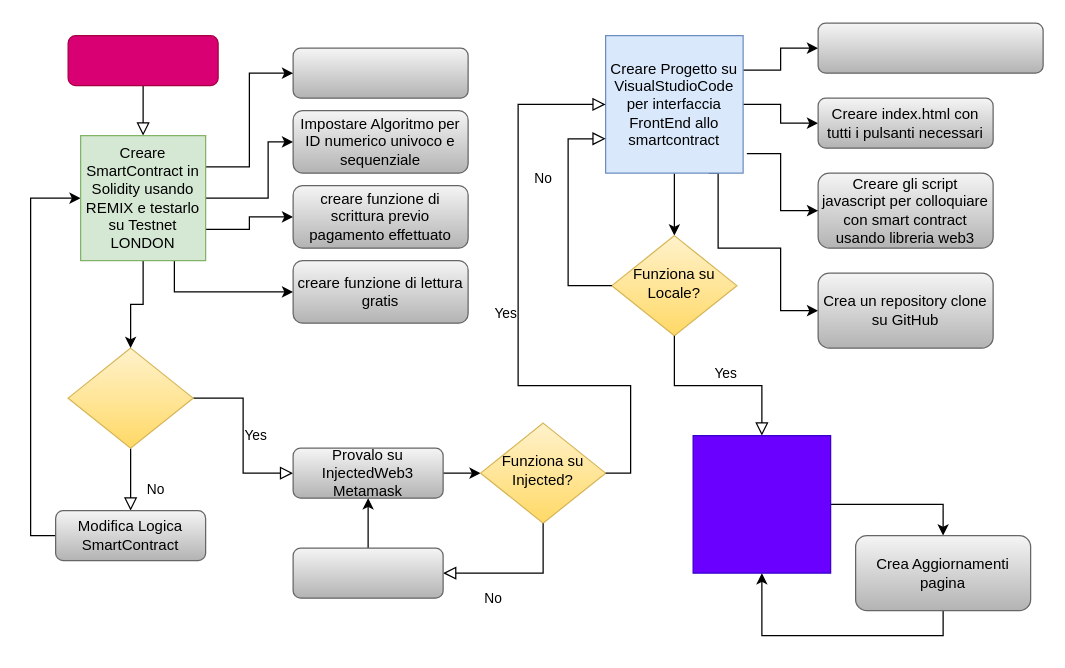
Some shapes in this 1065 by 668 pixel diagram are drawn without their labels. Here are the shapes that lost their labels. From the top down, the centre of each, then its label:
At [142,60]: "AutentikaScripta".
At [930,47]: "Creare server.js Express per test locale webapp http://127.0.0.1:5000/".
At [380,72]: "Impostare pagamento fee a address specifico".
At [130,397]: "Funziona su Testnet?".
At [761,503]: "Pubblica su sito IPFS AUTENTIKA.NFT".
At [367,572]: "Modifica GassFee e Parametri input".
